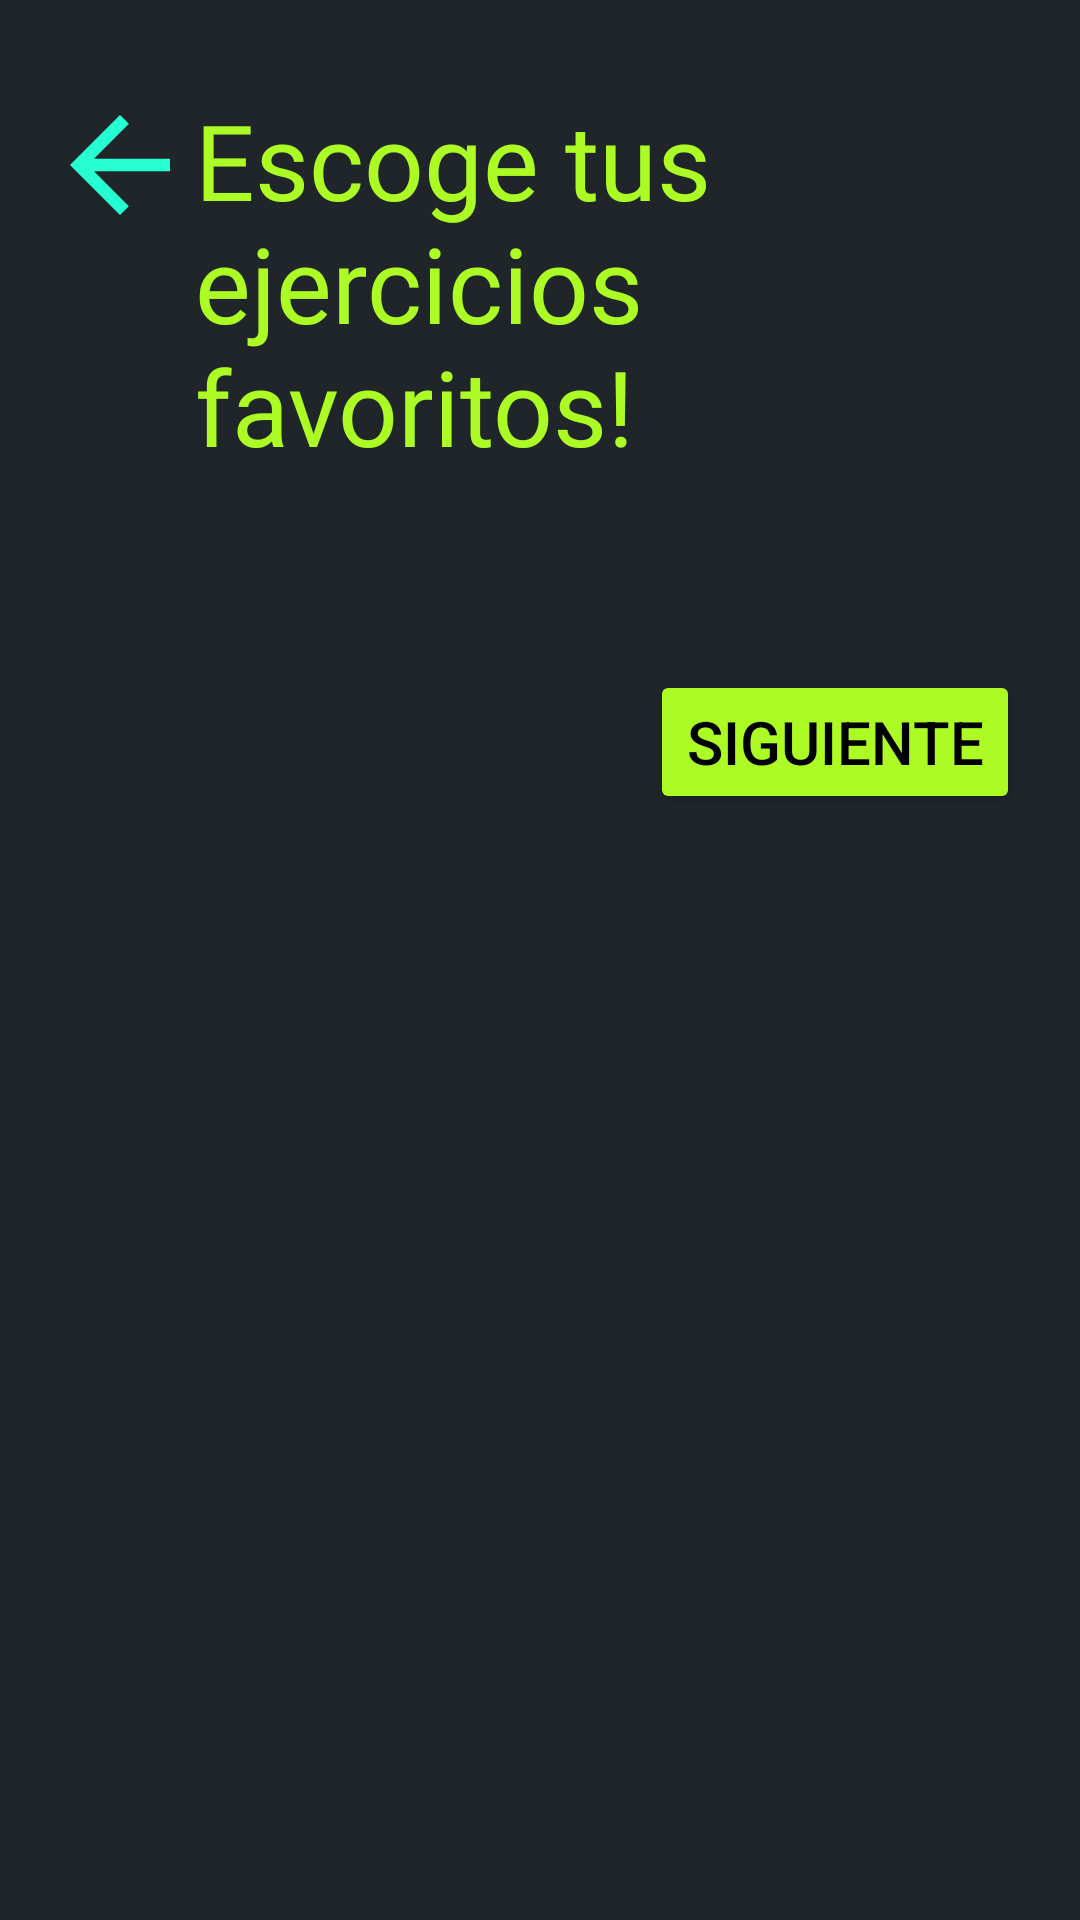

Locate icon controls on the screen. Image size 1080w x 1920h, boxes as (x1, y1, x2, y2).
flecha atras: (70, 115, 170, 215)
